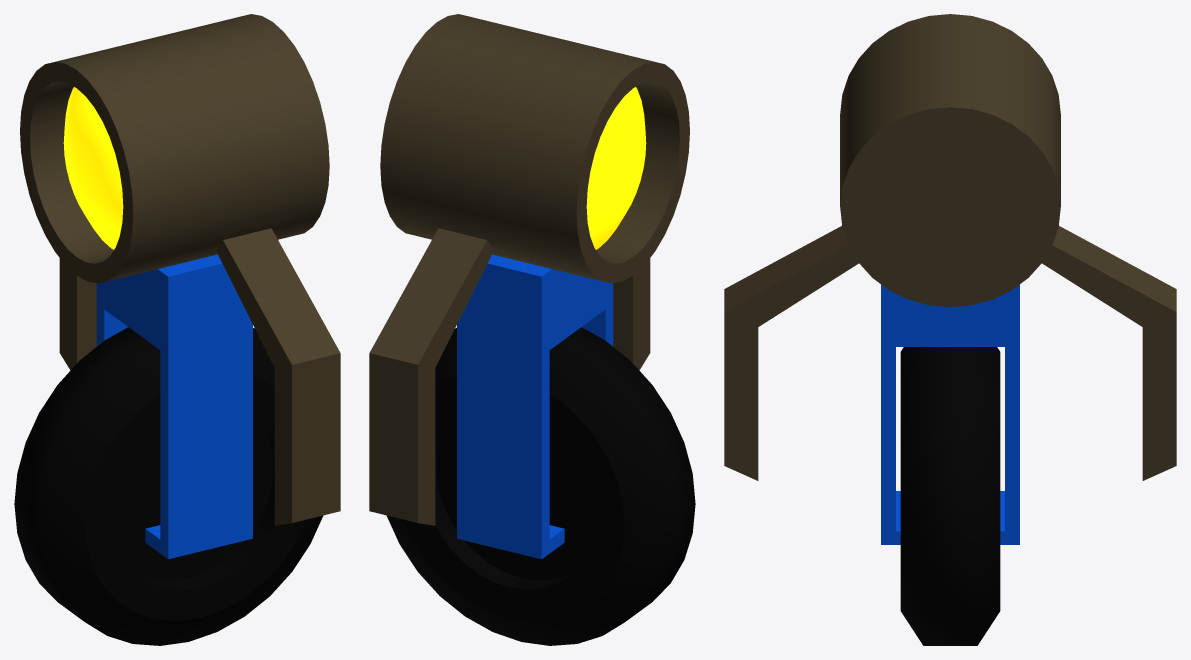
File: robot w.fbx
The picture shows the model from 3 angles, left to right: view 1: azimuth 30°, elevation 25°; view 2: azimuth 150°, elevation 25°; view 3: azimuth 270°, elevation 25°; orthographic projection. The views are drawn at different scales.
Parts seen in each view (by area): view 1: Cylinder.001, Cylinder, Cube; view 2: Cylinder.001, Cylinder, Cube; view 3: Cylinder.001, Cylinder, Cube.
Boxes of the visible parts, x1,y1,x2,y2 form: Cylinder.001: (20,14,340,525); Cylinder: (14,327,323,645); Cube: (96,254,252,559); Cylinder.001: (369,14,689,525); Cylinder: (386,327,695,645); Cube: (457,254,613,559); Cylinder.001: (724,14,1176,480); Cylinder: (900,347,1000,645); Cube: (881,284,1019,544).
Bounding box in the file's own units: 200 × 382 × 275.
